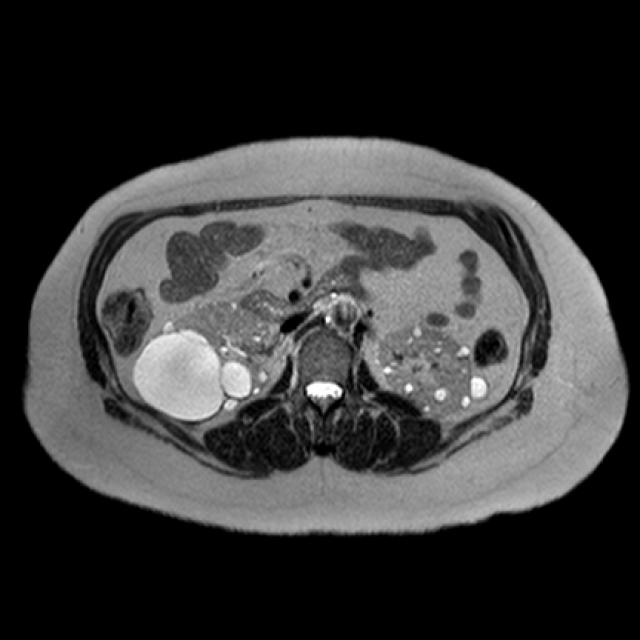sag: (132, 300, 277, 425)
sol: (376, 326, 493, 420)
